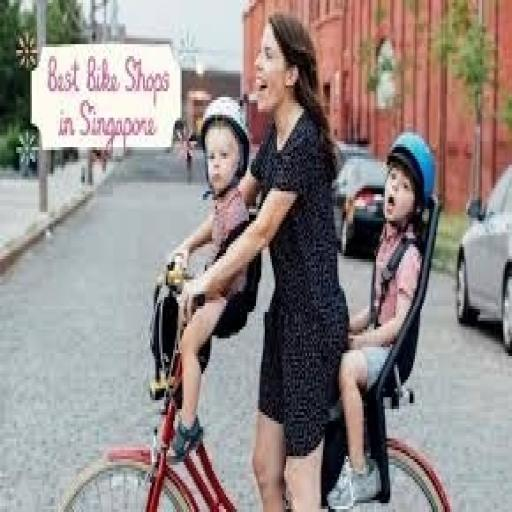cycling: (171, 9, 353, 509), (325, 130, 438, 509), (159, 94, 261, 462)
